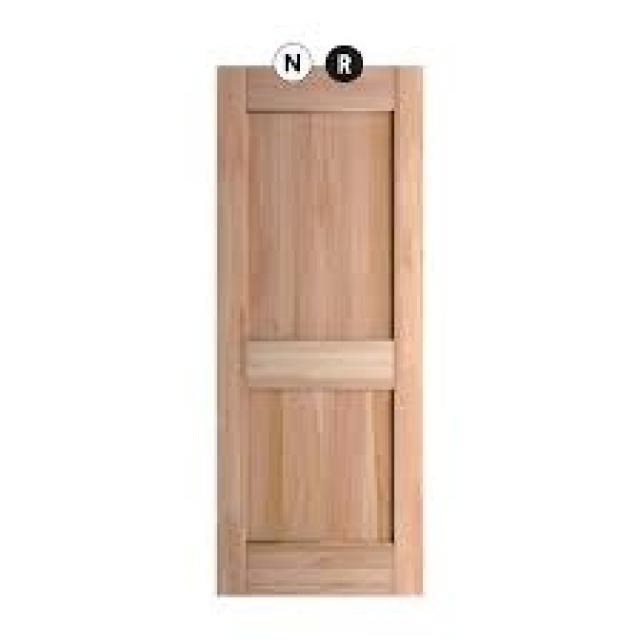door: (214, 60, 426, 598)
